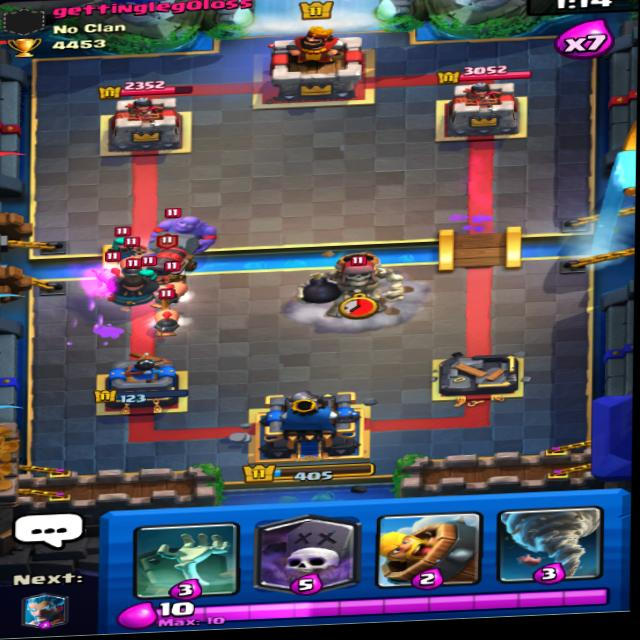bowler: (147, 194, 237, 262)
cannon-cart: (149, 235, 196, 281)
giant-skeleton: (307, 248, 412, 323)
rascal-boy: (103, 265, 168, 311)
rascal-girl: (105, 232, 144, 262)
royal-hogs: (153, 275, 194, 315), (148, 306, 187, 337)
